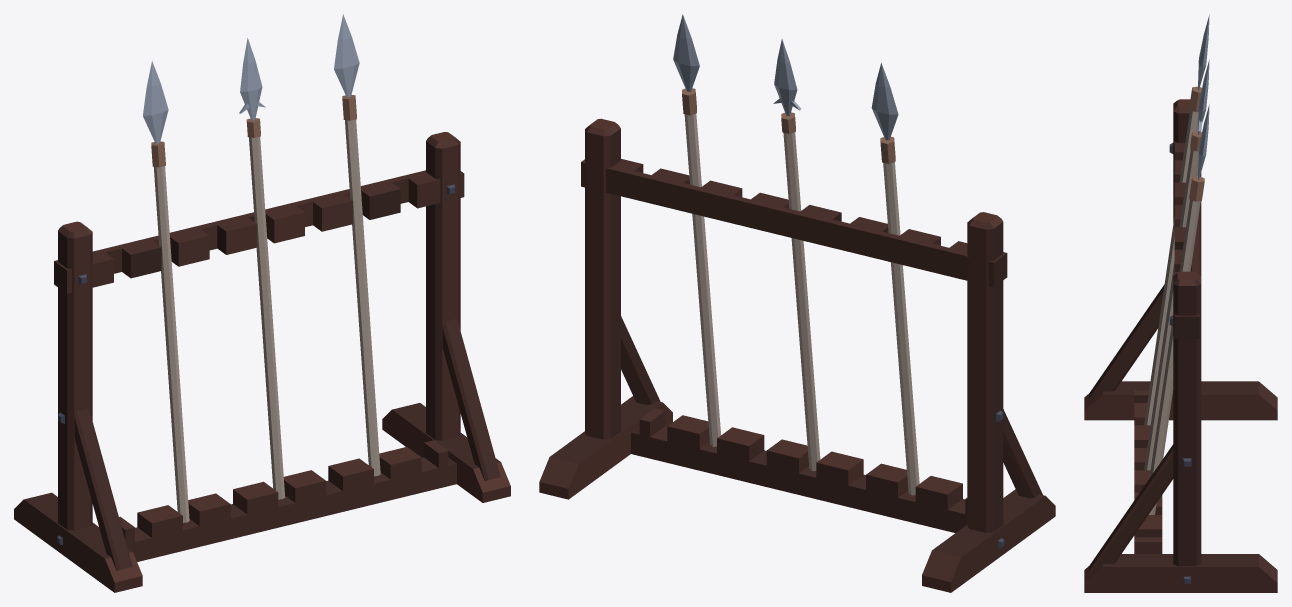
File: weapon-rack-eb5fe6.glb
3 renders of one model, left to right at view 1: azimuth 30°, elevation 25°; view 2: azimuth 150°, elevation 25°; view 3: azimuth 270°, elevation 25°, orthographic. The views are drawn at different scales.
Visible parts, largest first — view 1: frame-matte, weapon-1-matte, weapon-2-matte, weapon-3-matte, weapon-1-metal, weapon-3-metal, weapon-2-metal; view 2: frame-matte, weapon-1-matte, weapon-2-matte, weapon-3-matte, weapon-3-metal, weapon-1-metal, weapon-2-metal; view 3: frame-matte, weapon-3-matte, weapon-1-matte, weapon-2-matte, weapon-2-metal, weapon-1-metal, weapon-3-metal.
Boxes of the visible parts, bbox=[...] form: frame-matte: bbox=[14, 132, 510, 592]; weapon-1-matte: bbox=[151, 141, 189, 522]; weapon-2-matte: bbox=[246, 118, 285, 499]; weapon-3-matte: bbox=[342, 95, 380, 476]; weapon-1-metal: bbox=[143, 61, 168, 143]; weapon-3-metal: bbox=[334, 14, 359, 97]; weapon-2-metal: bbox=[239, 38, 265, 120]; frame-matte: bbox=[539, 118, 1055, 592]; weapon-1-matte: bbox=[880, 136, 919, 495]; weapon-2-matte: bbox=[781, 112, 820, 470]; weapon-3-matte: bbox=[682, 88, 720, 446]; weapon-3-metal: bbox=[673, 14, 699, 91]; weapon-1-metal: bbox=[871, 63, 898, 140]; weapon-2-metal: bbox=[773, 39, 801, 115]; frame-matte: bbox=[1084, 99, 1277, 592]; weapon-3-matte: bbox=[1148, 176, 1204, 514]; weapon-1-matte: bbox=[1144, 86, 1201, 425]; weapon-2-matte: bbox=[1144, 131, 1201, 470]; weapon-2-metal: bbox=[1198, 59, 1209, 134]; weapon-1-metal: bbox=[1198, 14, 1209, 90]; weapon-3-metal: bbox=[1198, 104, 1209, 179].
Bounding box in the file's own units: 1.43 × 1.56 × 0.62.
